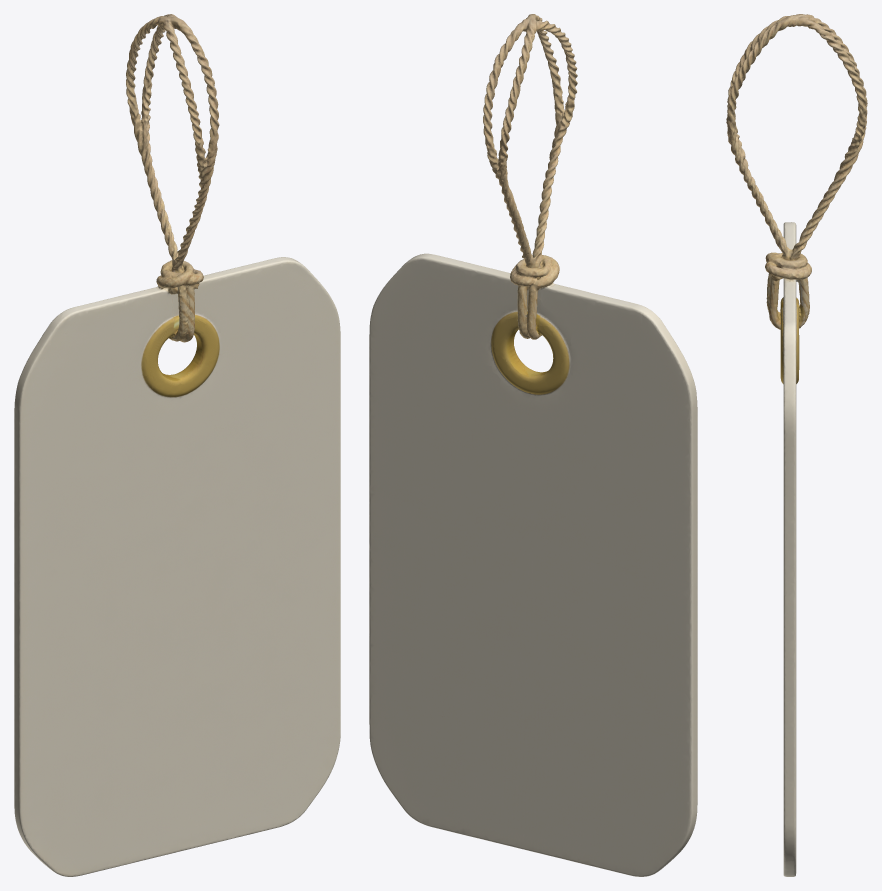
The model's file is tag.glb.
3 views of the same model, side by side, from view 1: azimuth 30°, elevation 25°; view 2: azimuth 150°, elevation 25°; view 3: azimuth 270°, elevation 25° (orthographic). The views are drawn at different scales.
Bounding box in the file's own units: 0.7697 × 1.9 × 0.2997.
1 material, 1 textured.
